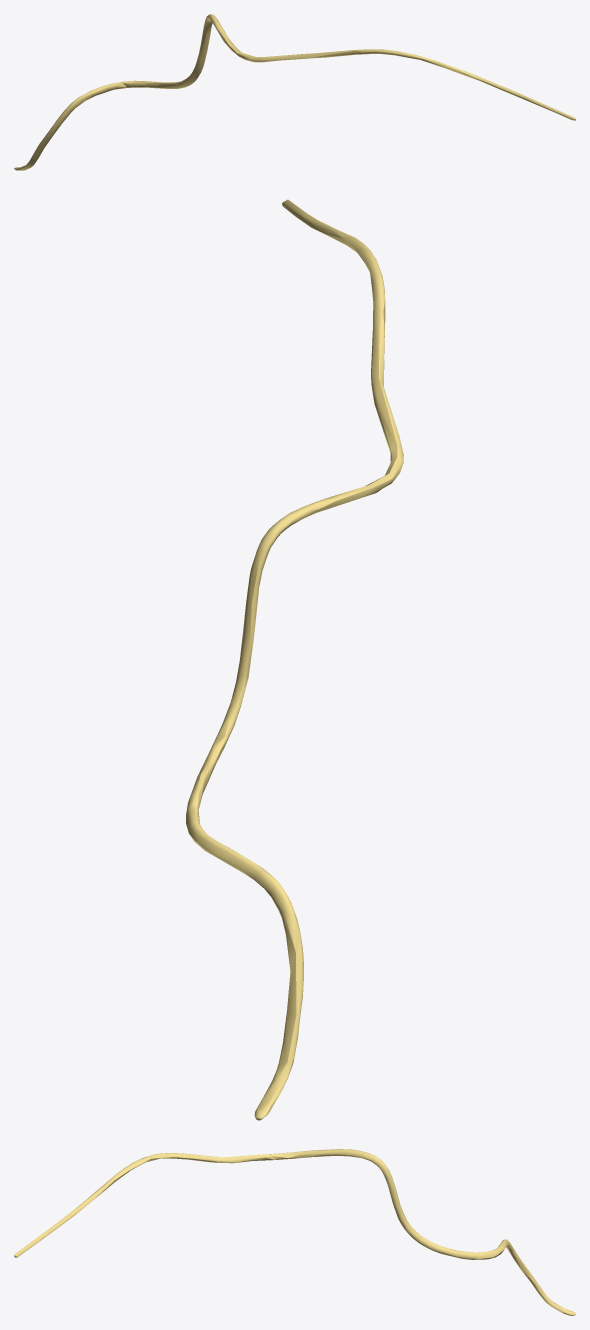
File: fma50887_fj3927.glb
3 views of the same model, one above another, from view 1: azimuth 30°, elevation 25°; view 2: azimuth 150°, elevation 25°; view 3: azimuth 270°, elevation 25° (orthographic). The views are drawn at different scales.
Visible parts, largest first — view 1: FMA50887_FJ3927; view 2: FMA50887_FJ3927; view 3: FMA50887_FJ3927.
Boxes of the visible parts, box(x1,y1,x2,y2) form: FMA50887_FJ3927: box(14, 14, 575, 170); FMA50887_FJ3927: box(186, 199, 403, 1120); FMA50887_FJ3927: box(14, 1149, 575, 1315).
Bounding box in the file's own units: 0.0315 × 0.0261 × 0.0568.
